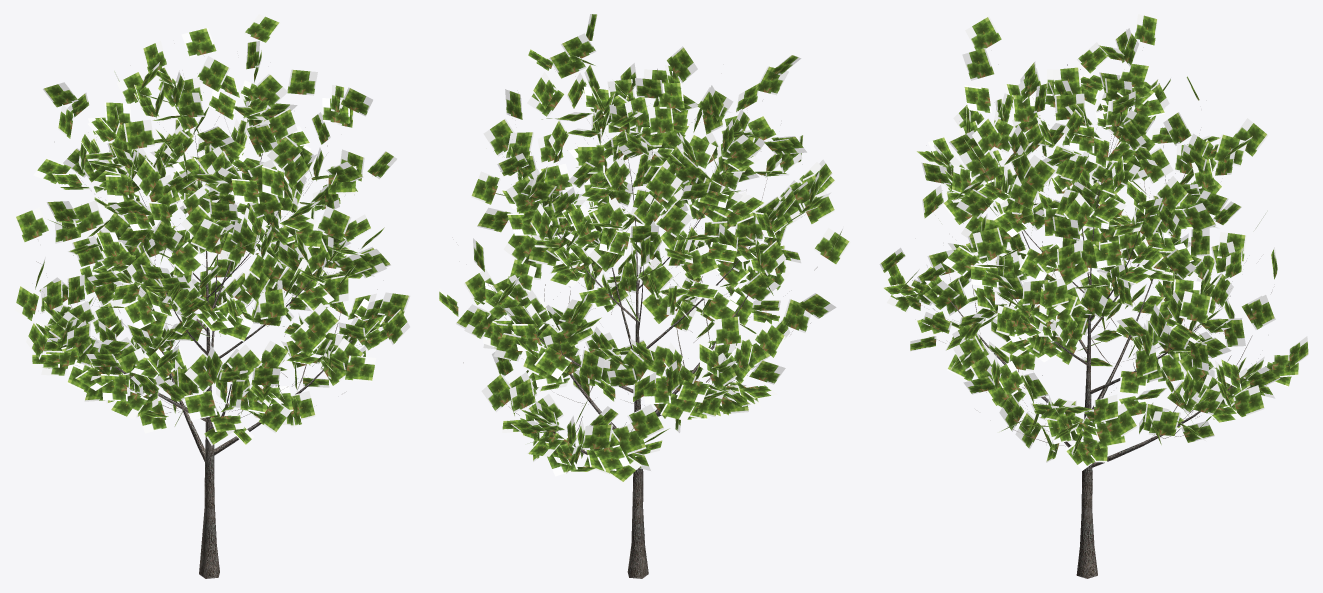
Rendered from maple.glb.
3 renders of one model, left to right at view 1: azimuth 30°, elevation 25°; view 2: azimuth 150°, elevation 25°; view 3: azimuth 270°, elevation 25°, orthographic.
Bounding box in the file's own units: 5.46 × 7.12 × 5.33.
2 materials, 2 textured.
